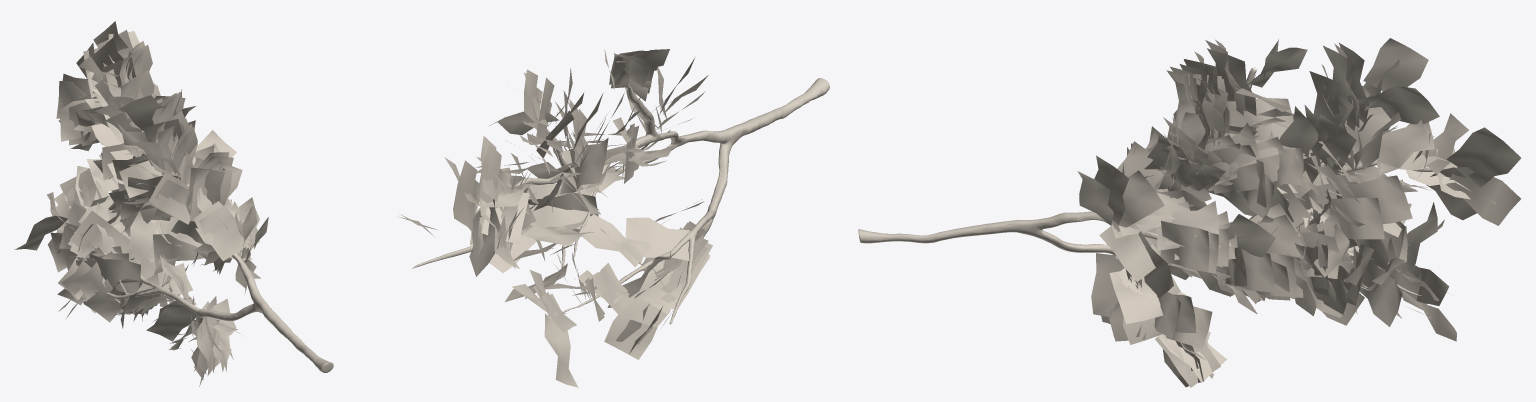
Rendered from tree_cand02.glb.
3 views of the same model, side by side, from view 1: azimuth 30°, elevation 25°; view 2: azimuth 150°, elevation 25°; view 3: azimuth 270°, elevation 25° (orthographic). The views are drawn at different scales.
Visible parts, largest first — view 1: world; view 2: world; view 3: world.
Boxes of the visible parts, box(x1,y1,x2,y2) form: world: box(14, 21, 333, 386); world: box(399, 49, 829, 387); world: box(858, 38, 1520, 387).
Size of the model in its own units: 0.8558 by 1.07 by 1.79.
